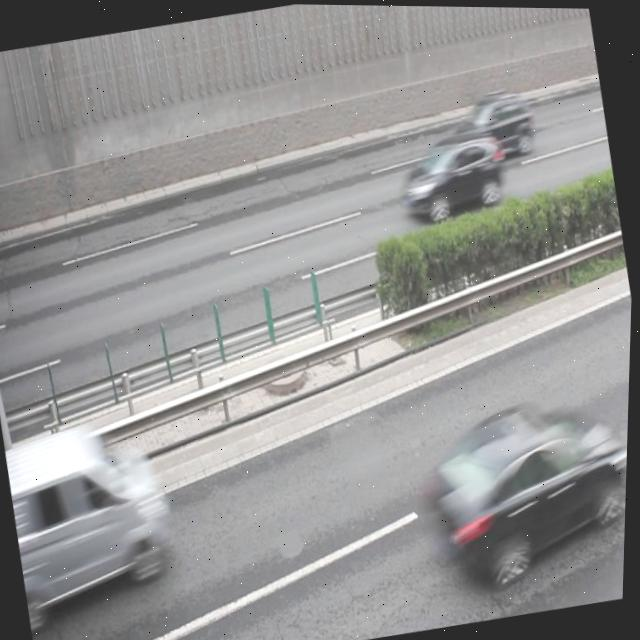car: (414, 382, 631, 594), (395, 125, 511, 225), (435, 85, 538, 169)
truck: (3, 418, 183, 619)
